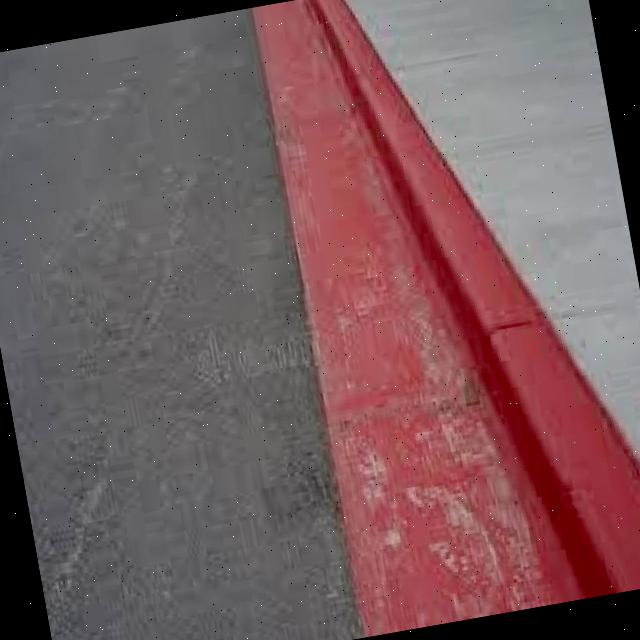curb: (292, 184, 640, 638), (235, 1, 477, 271)
